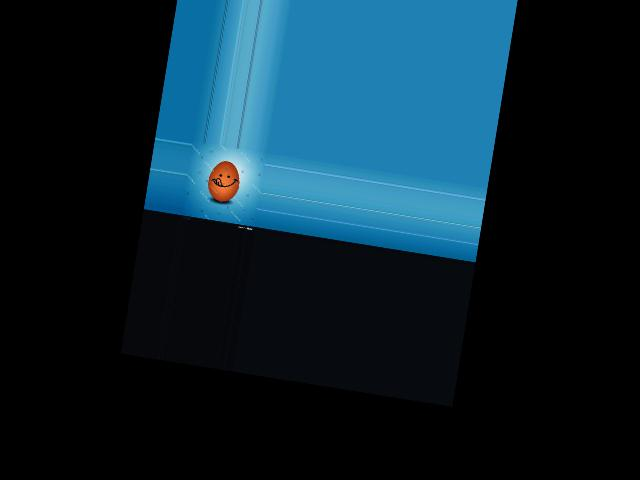egg: (205, 158, 242, 203)
